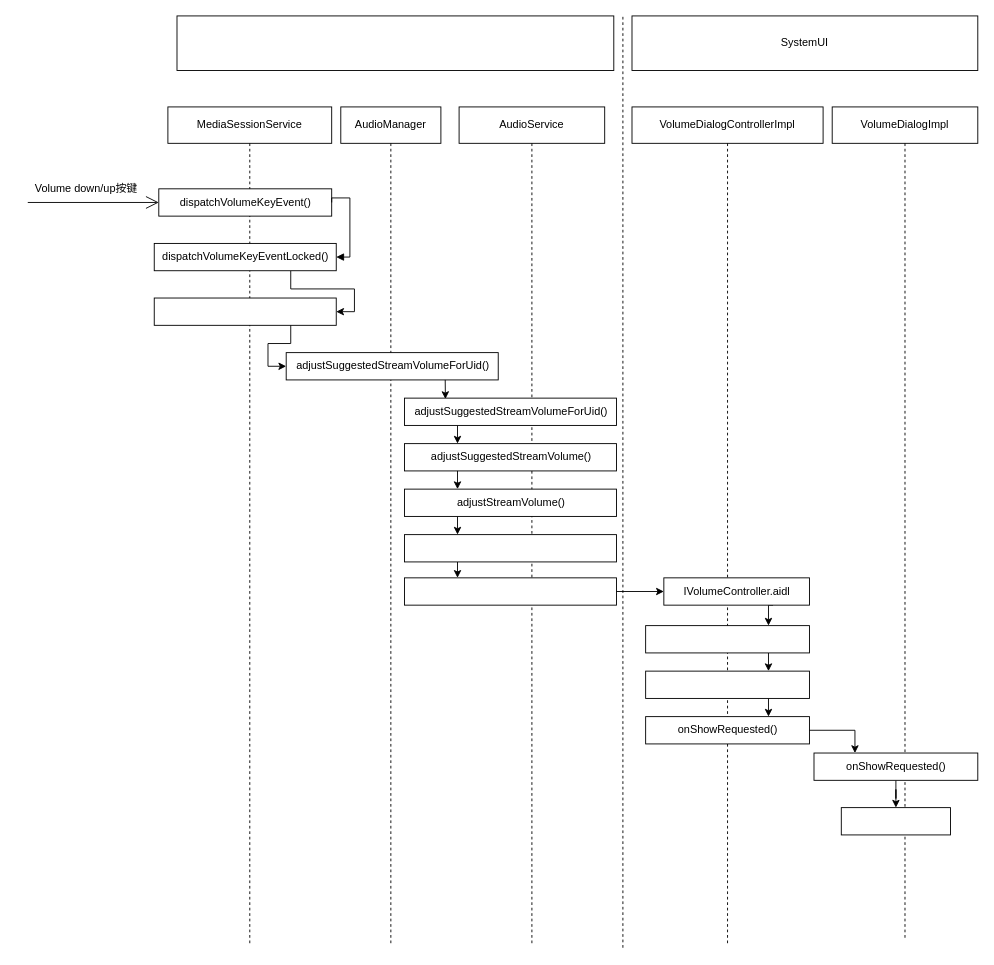
The diagram is 994 pixels wide and 965 high, and some of its shapes have lost their labels. Here are the shapes that lost their labels. From the top down, the centre of each, then its label:
(x=395, y=43): services
(x=244, y=311): dispatchAdjustVolumeLocked()
(x=510, y=548): sendVolumeUpdate()
(x=510, y=591): postVolumeChanged()
(x=727, y=639): volumeChanged()
(x=727, y=684): onVolumeChangedW()
(x=895, y=821): showH()
